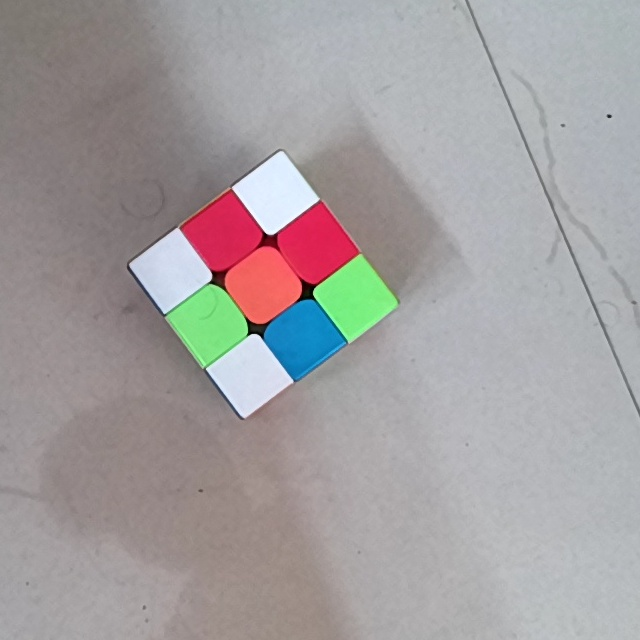tile: (243, 261, 285, 309), (253, 173, 297, 216), (187, 304, 232, 346), (335, 275, 378, 317), (283, 315, 325, 358), (203, 212, 245, 255), (150, 251, 191, 292), (295, 223, 335, 265), (230, 353, 272, 393)
